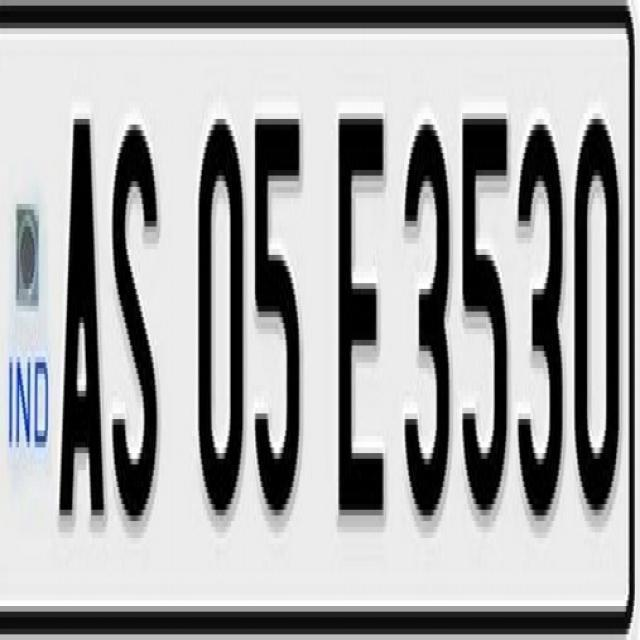0: (191, 74, 248, 545), (570, 97, 624, 565)
3: (513, 74, 569, 538), (400, 99, 455, 552)
5: (458, 74, 516, 545), (250, 82, 306, 552)
A: (51, 71, 109, 554)
E: (336, 91, 392, 542)
S: (108, 77, 162, 545)
